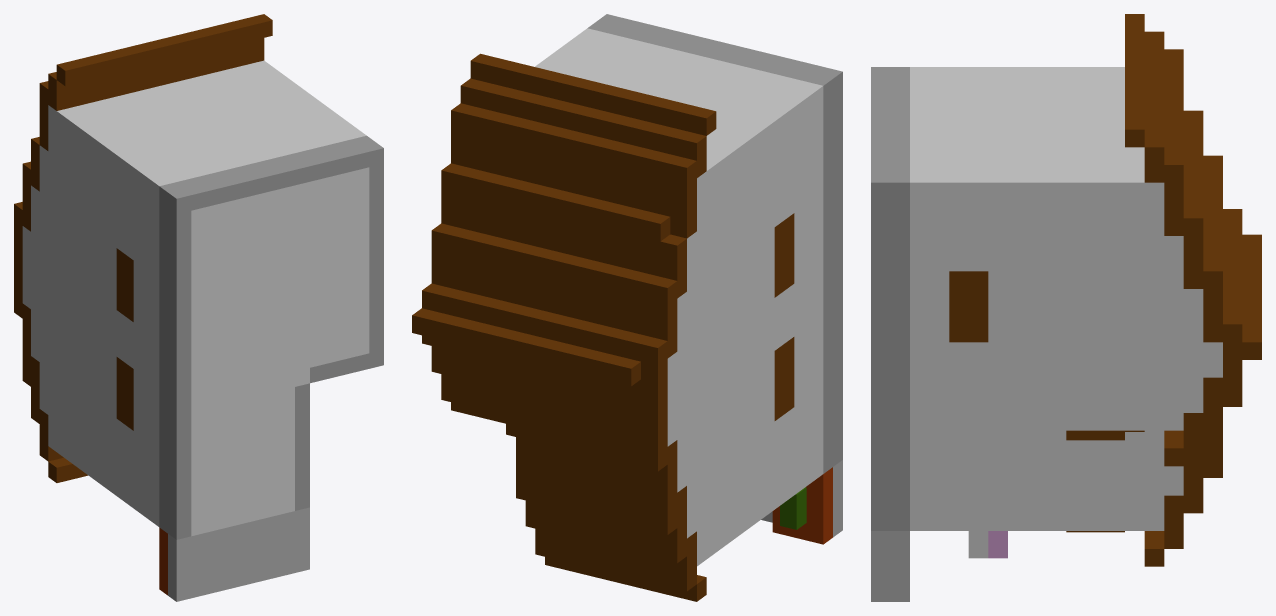
File: yoshida4.fbx
3 views of the same model, side by side, from view 1: azimuth 30°, elevation 25°; view 2: azimuth 150°, elevation 25°; view 3: azimuth 270°, elevation 25° (orthographic). The views are drawn at different scales.
Parts seen in each view (by area): view 1: Default; view 2: Default; view 3: Default.
Boxes of the visible parts, x1,y1,x2,y2 form: Default: (14,14,383,601); Default: (412,14,842,601); Default: (871,14,1261,601).
Size of the model in its own units: 14 by 29 by 20.
1 material, 1 textured.
